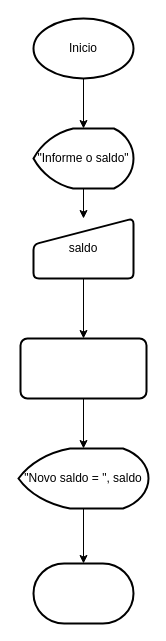
Some shapes in this 166 by 641 pixel diagram are drawn without their labels. The shapes that lost their labels are listed below. From the top down, each one's box as (x1, y1, x2, y2) in pixels, then its label:
(19, 337, 147, 399): saldo = saldo * 0,005
(32, 562, 134, 624): Fim
